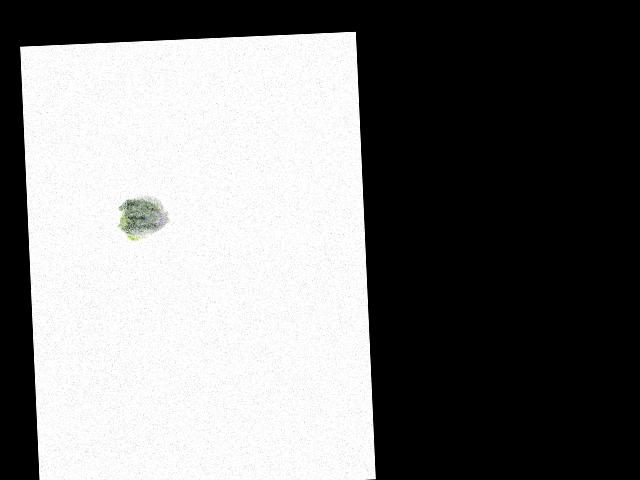lettuce: (116, 192, 170, 244)
